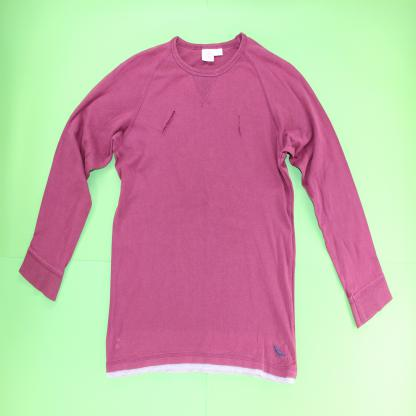hole: (158, 105, 181, 142), (237, 112, 242, 138)
